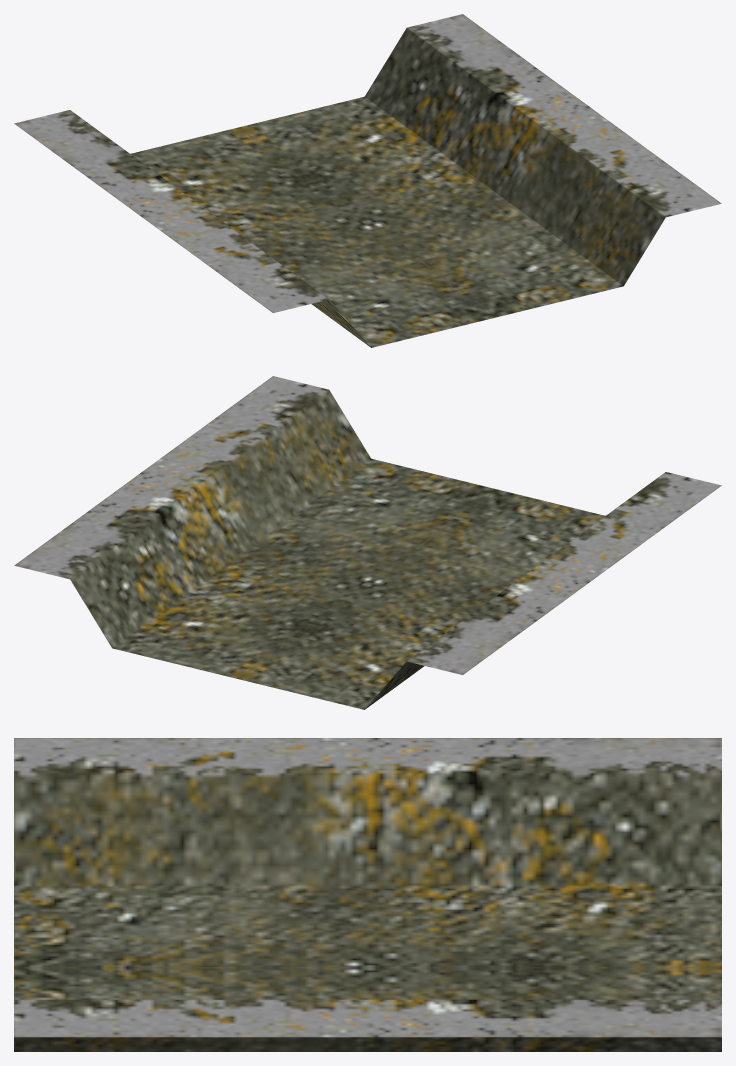
The model's file is MESH_ESGOTOINF_ESCOADOR.fbx.
The picture shows the model from 3 angles, top to bottom: view 1: azimuth 30°, elevation 25°; view 2: azimuth 150°, elevation 25°; view 3: azimuth 270°, elevation 25°; orthographic projection. The views are drawn at different scales.
Parts seen in each view (by area): view 1: MESH_ESGOTOINF_ESCOADOR; view 2: MESH_ESGOTOINF_ESCOADOR; view 3: MESH_ESGOTOINF_ESCOADOR.
Part boxes in pixels (left/top/right/bottom): MESH_ESGOTOINF_ESCOADOR: left=14, top=14, right=721, bottom=347; MESH_ESGOTOINF_ESCOADOR: left=14, top=376, right=721, bottom=709; MESH_ESGOTOINF_ESCOADOR: left=14, top=738, right=721, bottom=1051.
Size of the model in its own units: 4 by 0.5 by 4.
